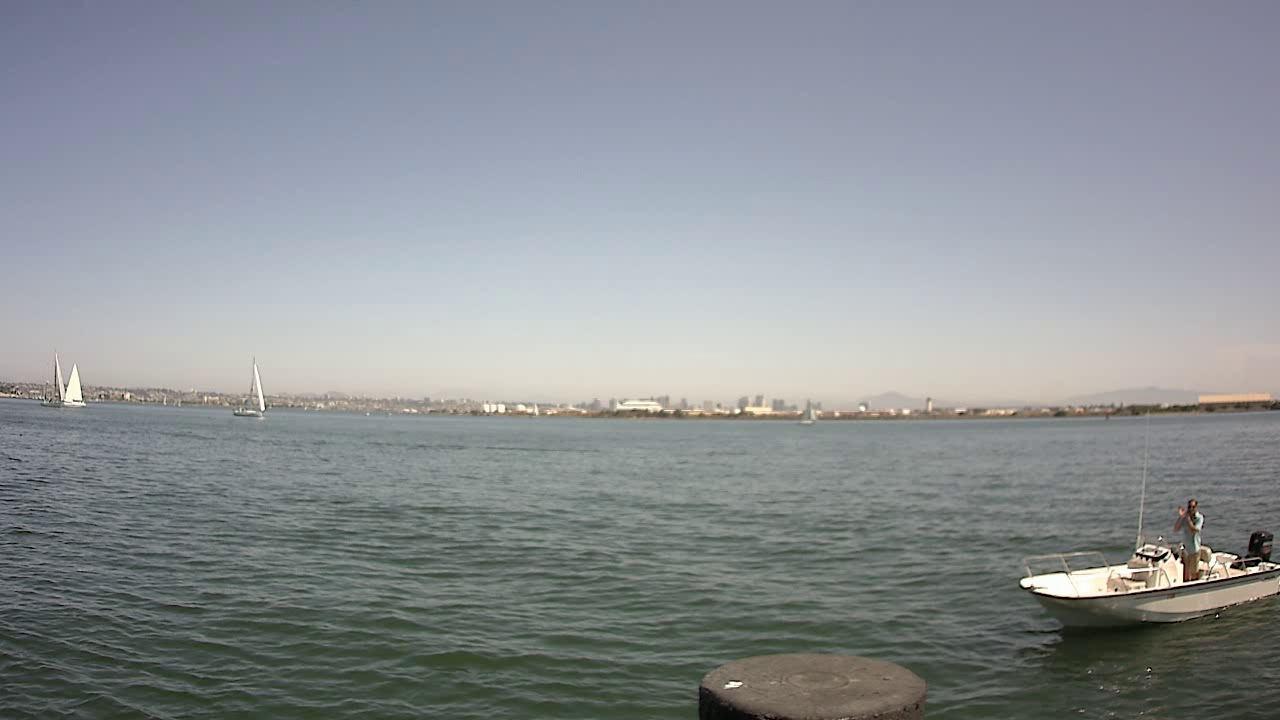target: (1005, 493, 1280, 629)
